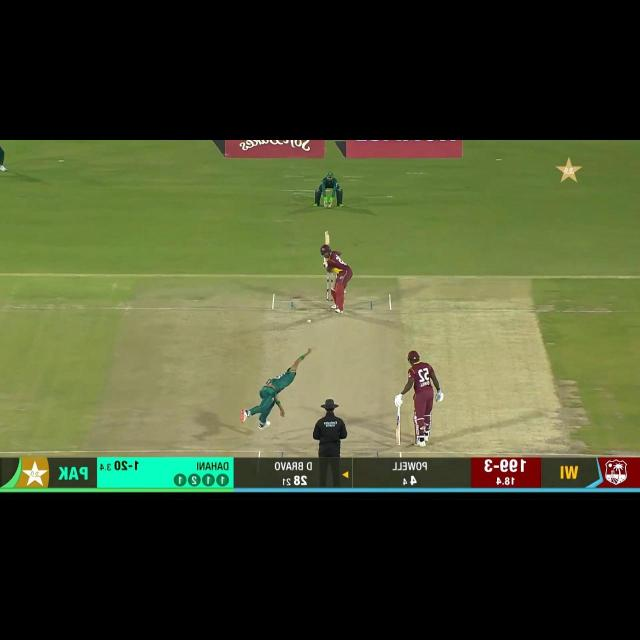bat: (394, 416, 401, 446), (324, 231, 331, 245)
toe: (394, 440, 402, 446), (325, 231, 330, 237)
